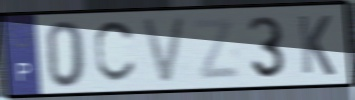0: (43, 18, 86, 90)
3: (246, 15, 288, 80)
C: (92, 18, 139, 86)
K: (296, 13, 337, 78)
V: (138, 14, 190, 86)
Z: (190, 15, 243, 82)
